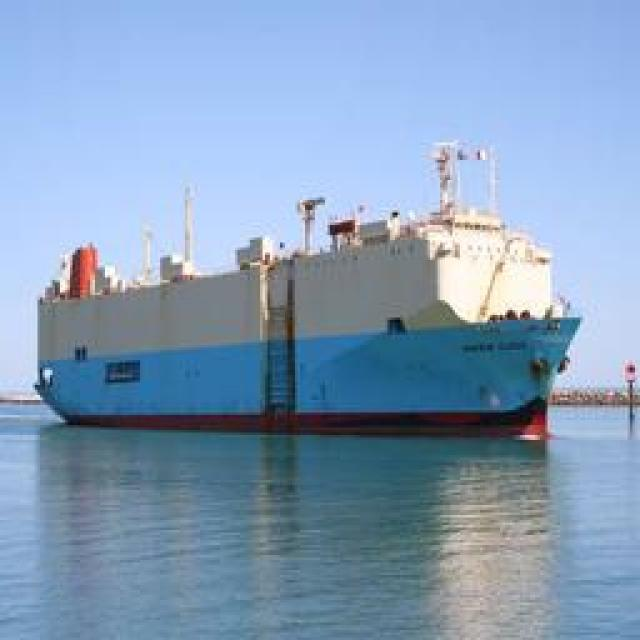ship2: (33, 141, 584, 443)
